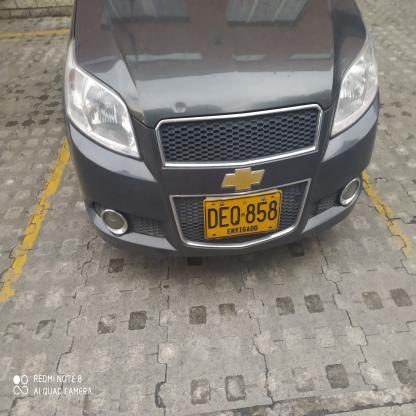placa: (200, 191, 286, 243)
